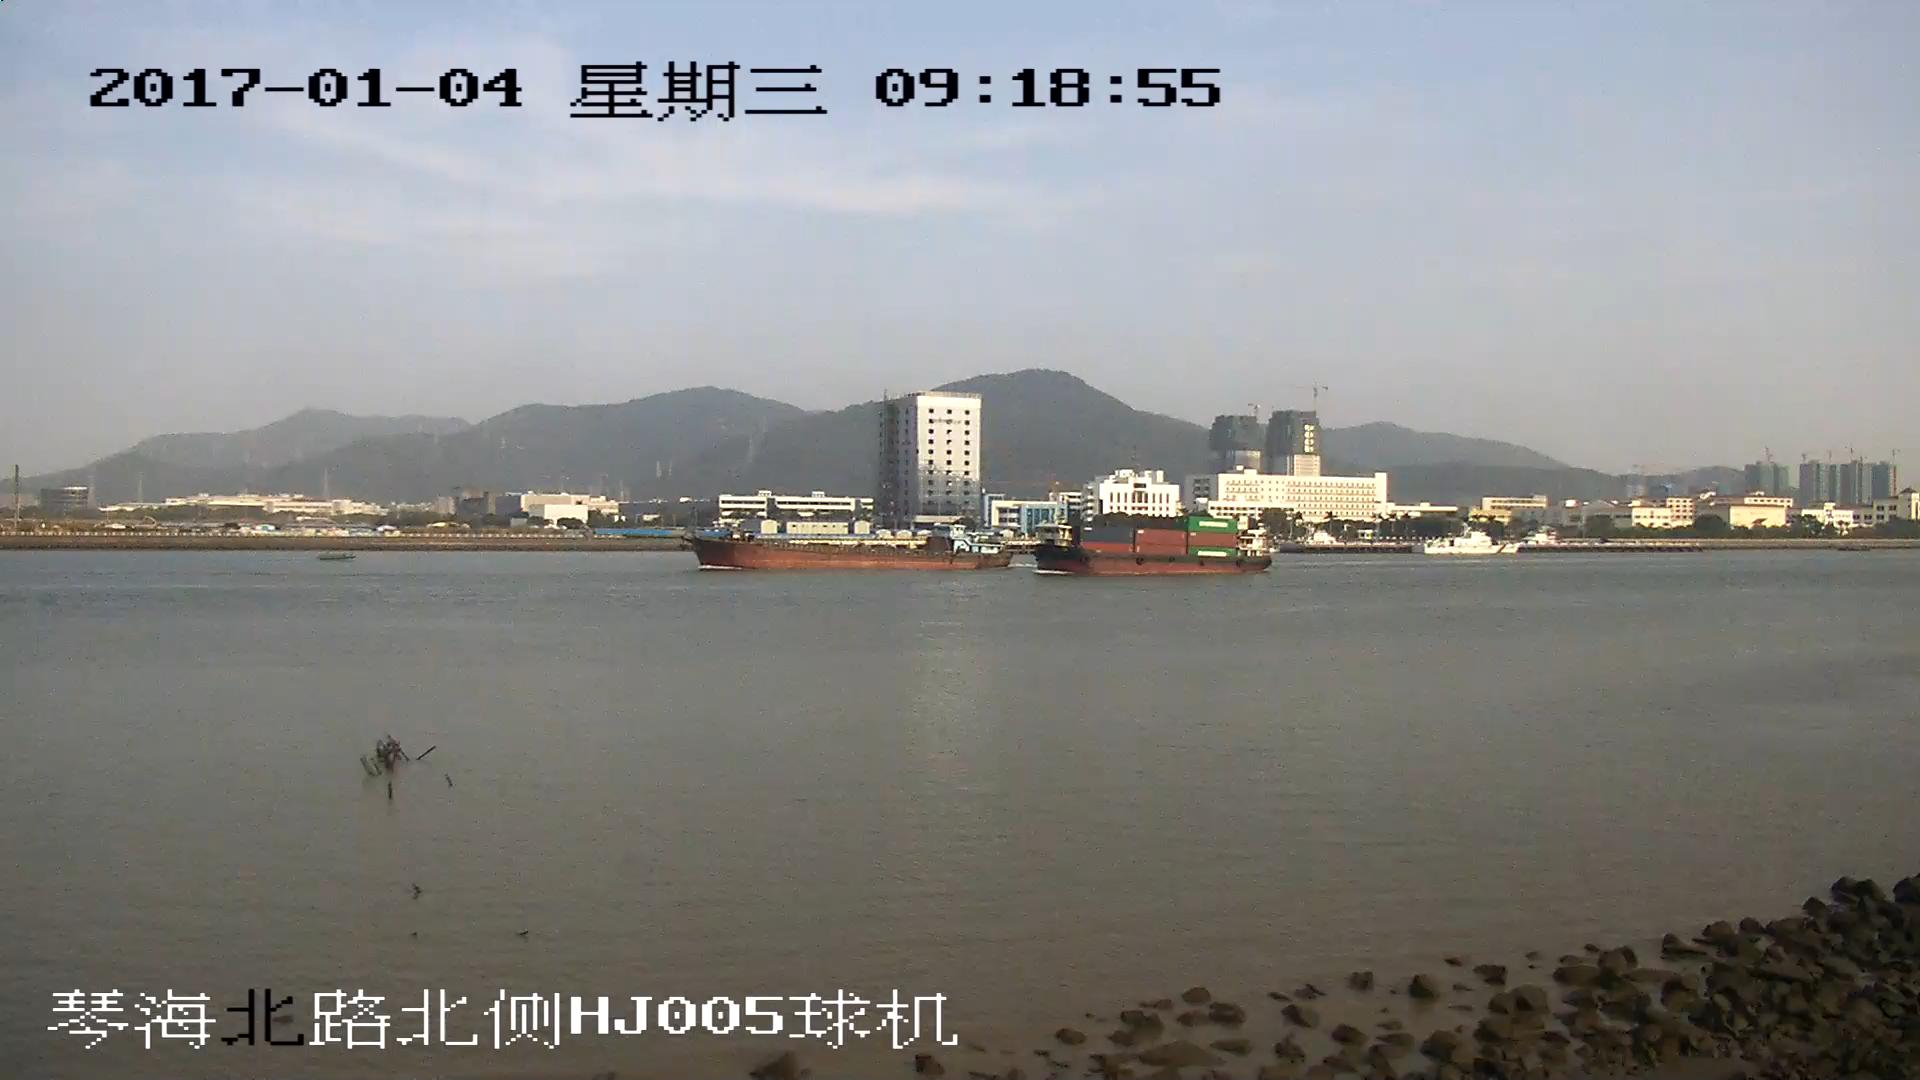bulk cargo carrier: (686, 531, 1009, 573)
container ship: (1038, 514, 1270, 575)
